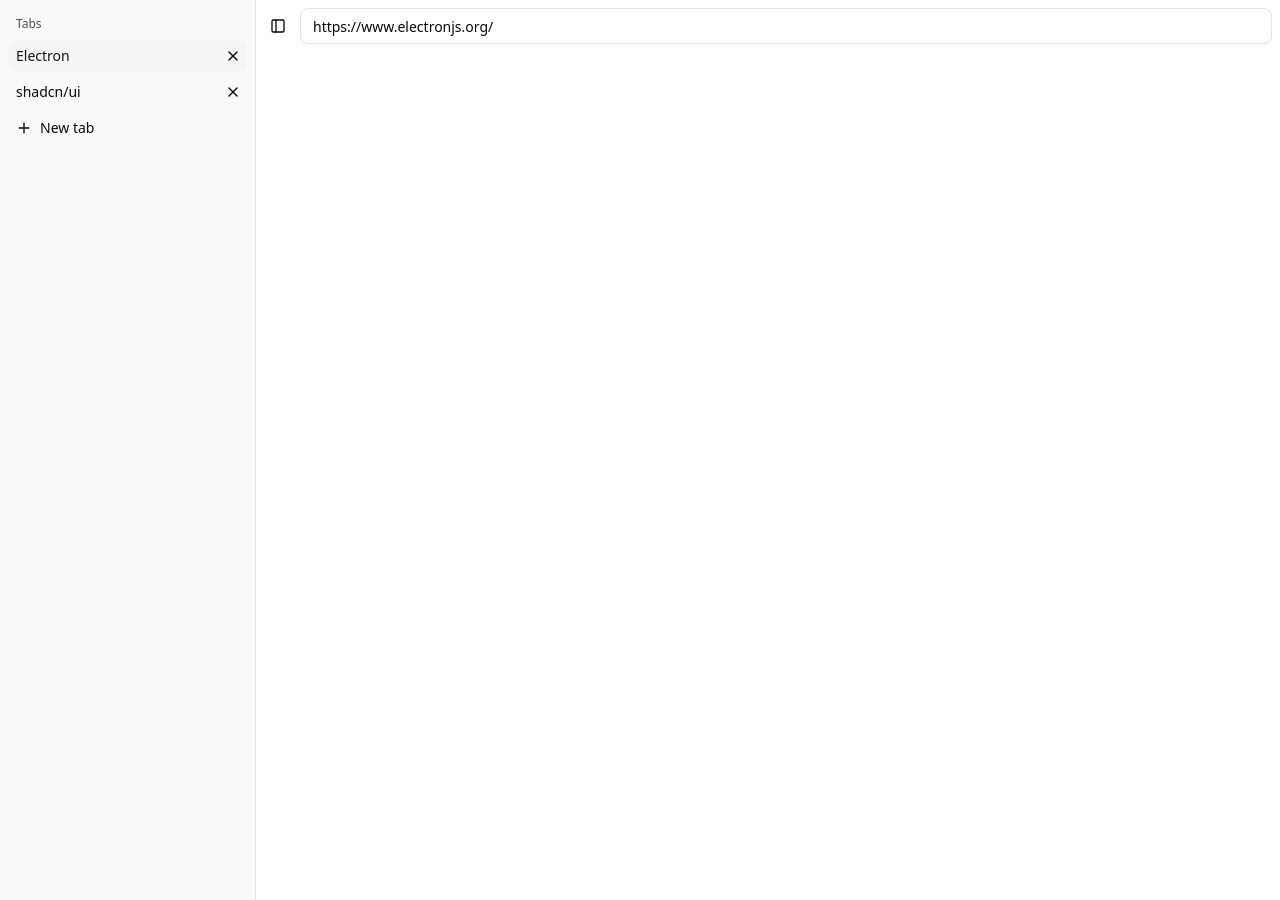
Test case: BrowserShell › follows main's active tab when a tab is selected
Click the button "shadcn/ui". click: point(128, 92)
box: [8, 76, 247, 108]
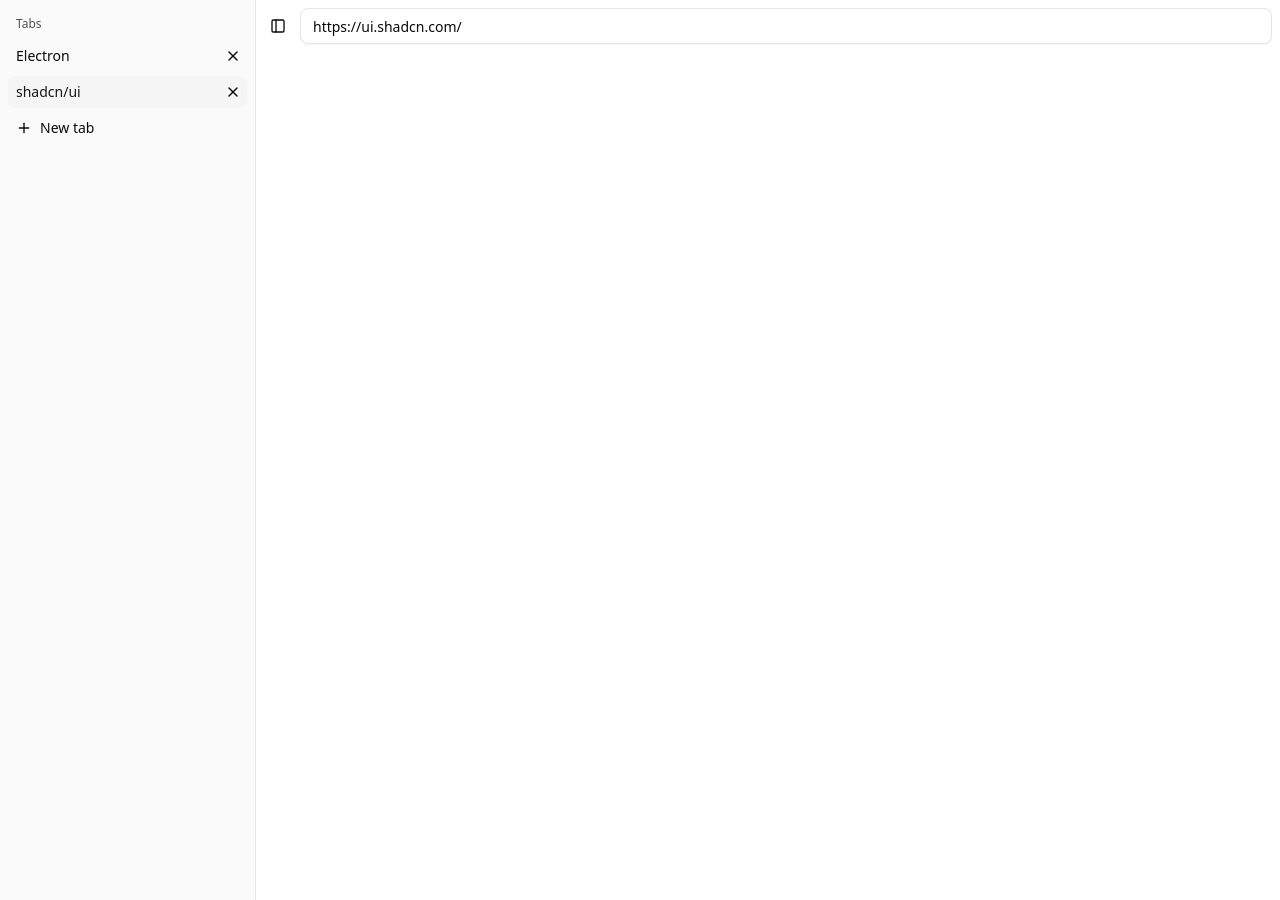
Expected: the field showing "https://ui.shadcn.com/" is shown, [300, 8, 1272, 44]
